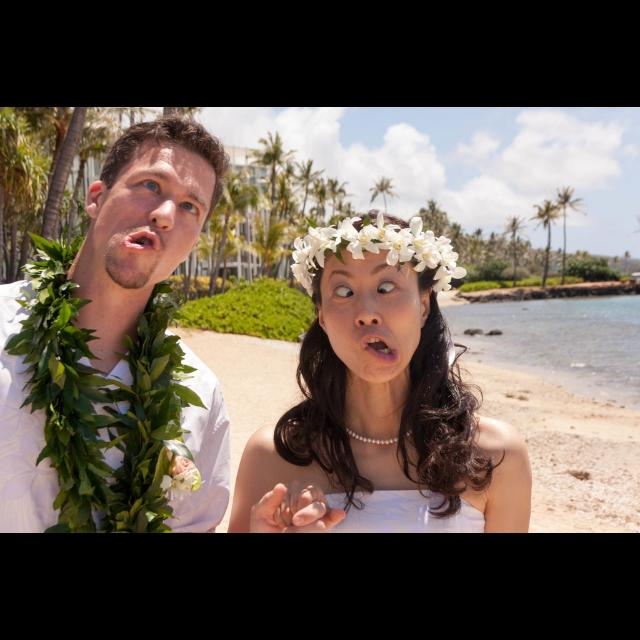Flower: (291, 215, 471, 297), (370, 227, 418, 265)
